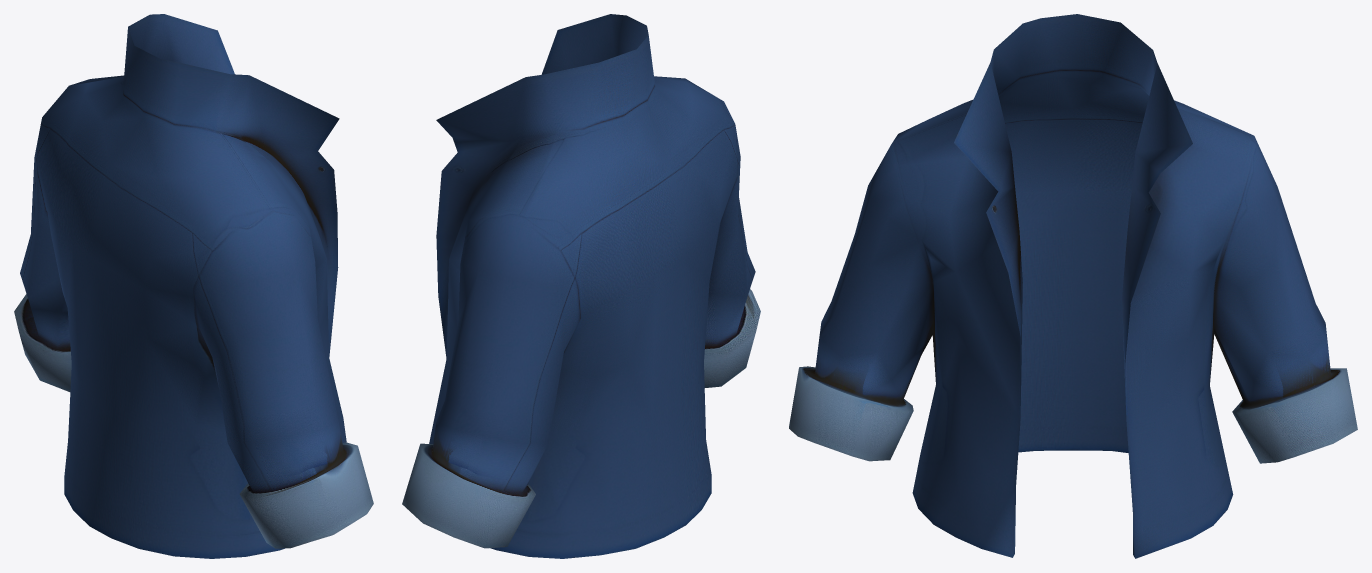
File: jacket.glb
3 views of the same model, side by side, from view 1: azimuth 30°, elevation 25°; view 2: azimuth 150°, elevation 25°; view 3: azimuth 270°, elevation 25° (orthographic).
Visible parts, largest first — view 1: tripo_node_ce26ef55-610b-4a22-a97e-ac9ba8a3b107; view 2: tripo_node_ce26ef55-610b-4a22-a97e-ac9ba8a3b107; view 3: tripo_node_ce26ef55-610b-4a22-a97e-ac9ba8a3b107.
Boxes of the visible parts, x1=… form: tripo_node_ce26ef55-610b-4a22-a97e-ac9ba8a3b107: x1=14, y1=14, x2=373, y2=558; tripo_node_ce26ef55-610b-4a22-a97e-ac9ba8a3b107: x1=402, y1=14, x2=760, y2=558; tripo_node_ce26ef55-610b-4a22-a97e-ac9ba8a3b107: x1=789, y1=14, x2=1357, y2=558.
Bounding box in the file's own units: 0.2314 × 0.4443 × 0.499.
Materials: 1 (1 with a texture image).
